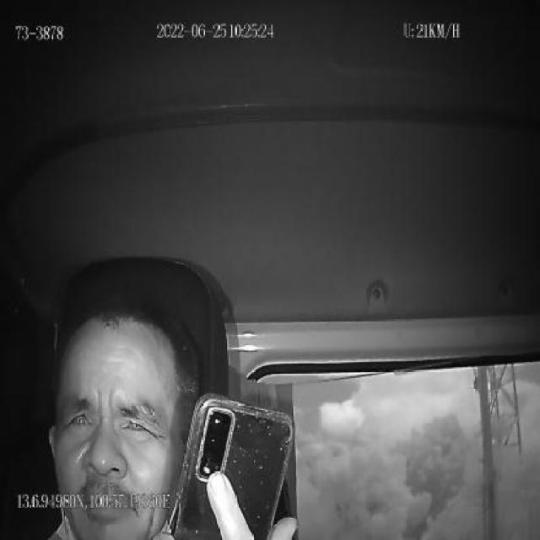phone: (173, 391, 294, 540)
